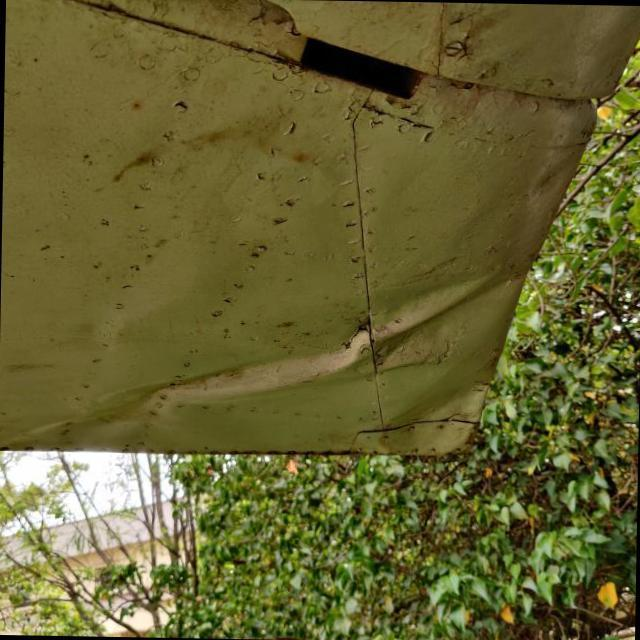Dent: (74, 238, 535, 471), (362, 372, 496, 483)
Rupture: (331, 318, 375, 361)
